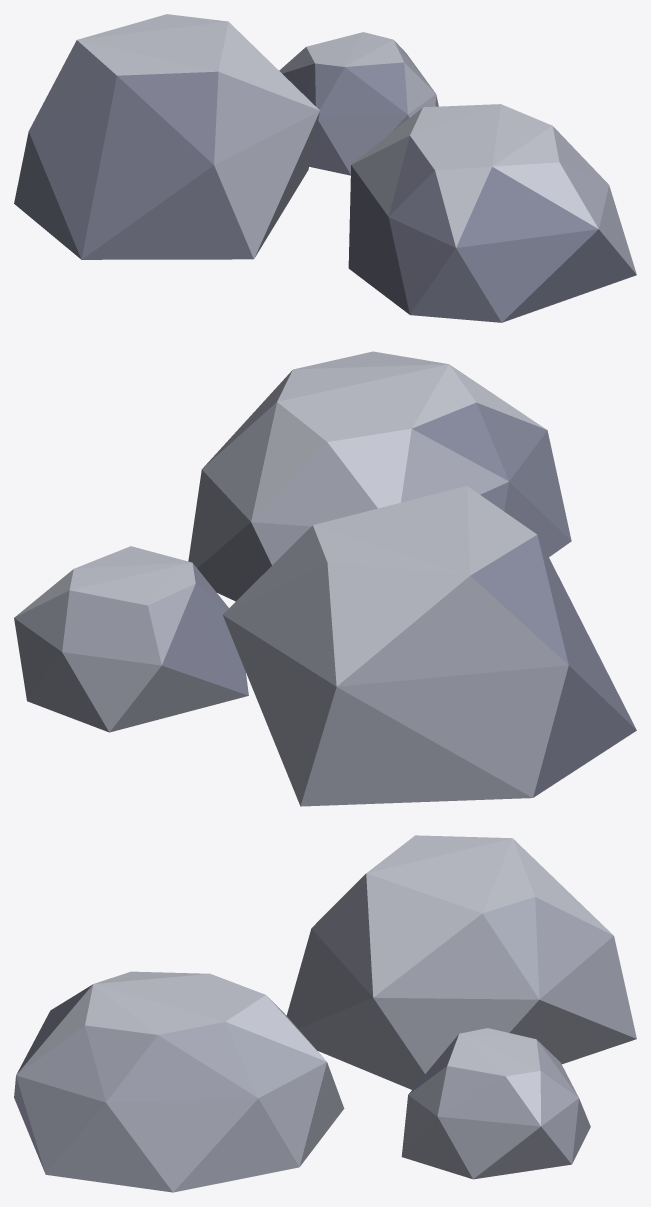
The model's file is stone_largeA.glb.
3 views of the same model, one above another, from view 1: azimuth 30°, elevation 25°; view 2: azimuth 150°, elevation 25°; view 3: azimuth 270°, elevation 25° (orthographic). The views are drawn at different scales.
Parts seen in each view (by area): view 1: stone_largeA; view 2: stone_largeA; view 3: stone_largeA.
Boxes of the visible parts, x1,y1,x2,y2 form: stone_largeA: (14,14,636,322); stone_largeA: (14,351,636,806); stone_largeA: (14,835,636,1192).
Bounding box in the file's own units: 0.7261 × 0.2498 × 0.8553.
1 material, 1 textured.
